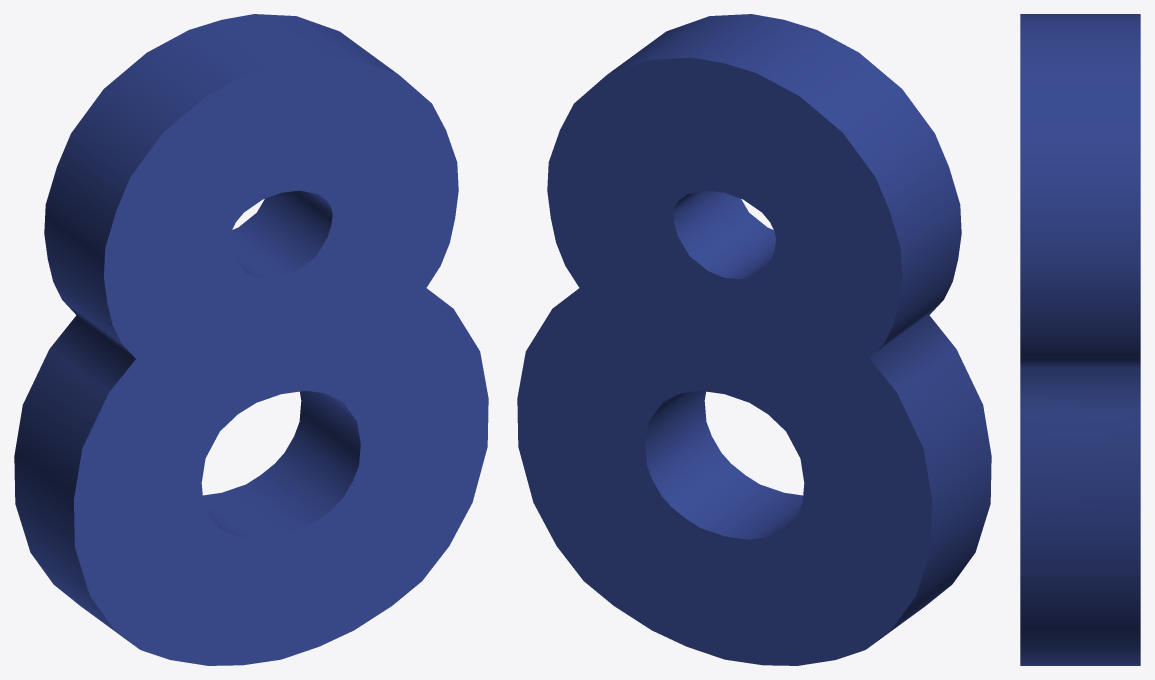
File: number_8.FBX
The picture shows the model from 3 angles, left to right: view 1: azimuth 30°, elevation 25°; view 2: azimuth 150°, elevation 25°; view 3: azimuth 270°, elevation 25°; orthographic projection.
Visible parts, largest first — view 1: number_8; view 2: number_8; view 3: number_8.
Boxes of the visible parts, <box> form: number_8: <box>14,14,488,665</box>; number_8: <box>517,14,991,665</box>; number_8: <box>1020,14,1140,665</box>.
Size of the model in its own units: 27.2 by 37.37 by 6.77.
